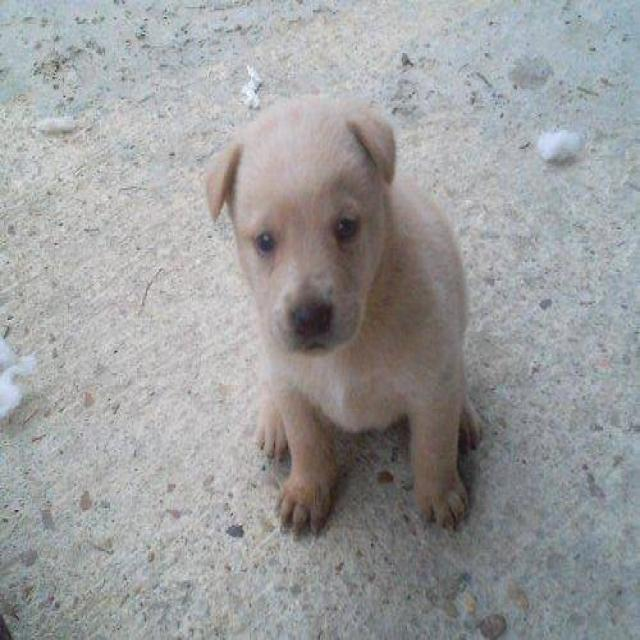dog: (203, 90, 484, 536)
